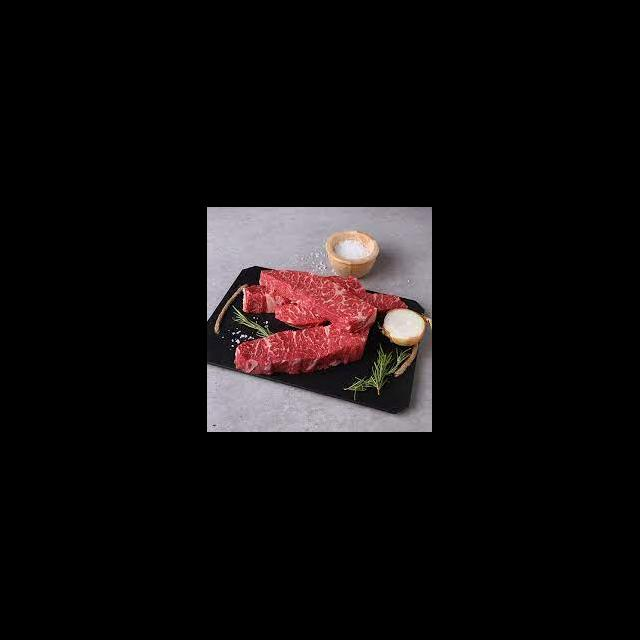beef: (253, 269, 375, 329), (234, 330, 369, 373)
